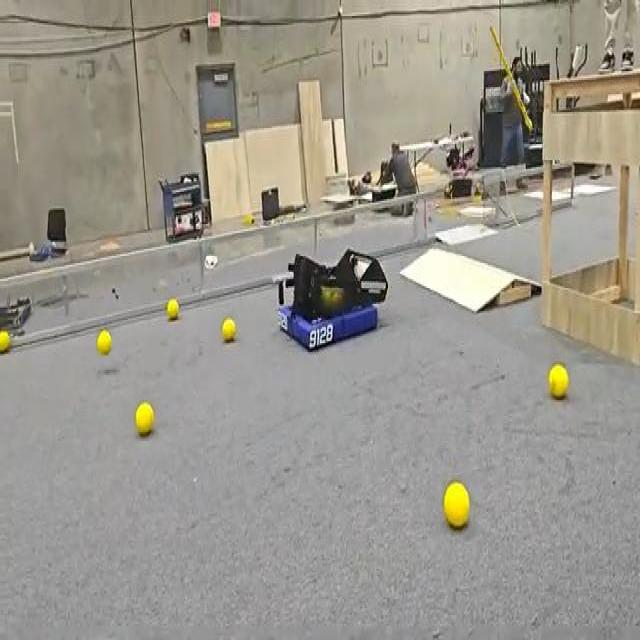Fuel: (443, 482, 470, 530), (548, 364, 569, 400), (135, 402, 154, 436), (96, 329, 111, 354), (221, 318, 235, 342), (222, 318, 236, 342), (166, 299, 178, 320), (0, 331, 10, 352)
